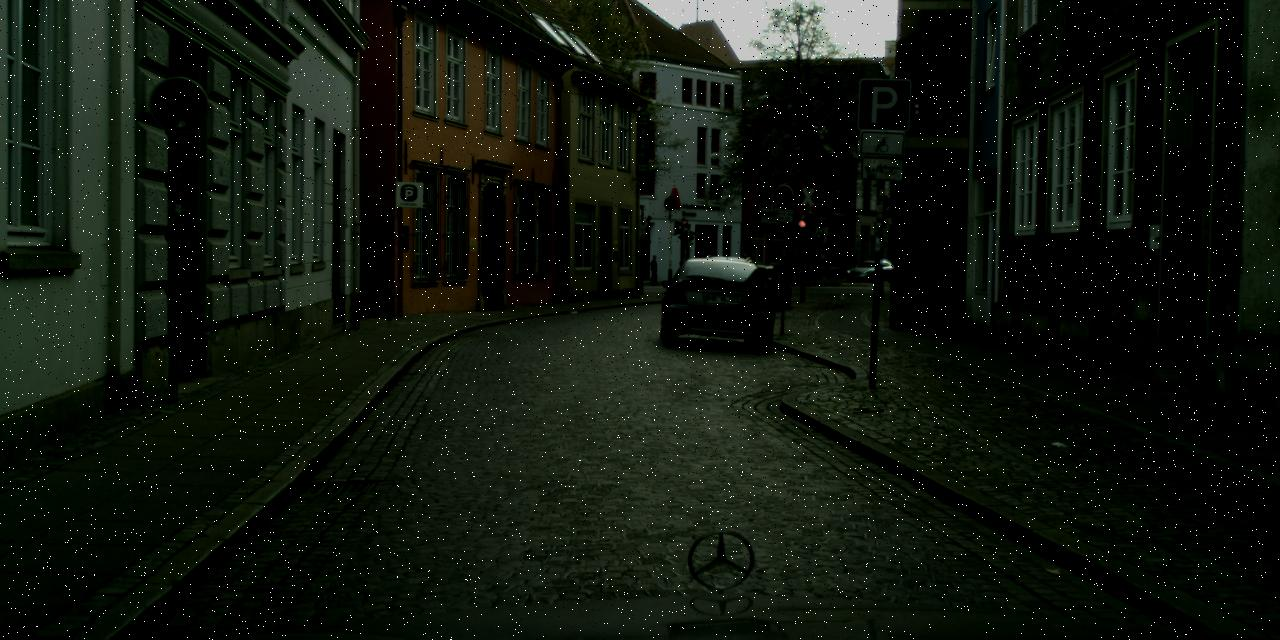ped: (648, 254, 660, 284)
